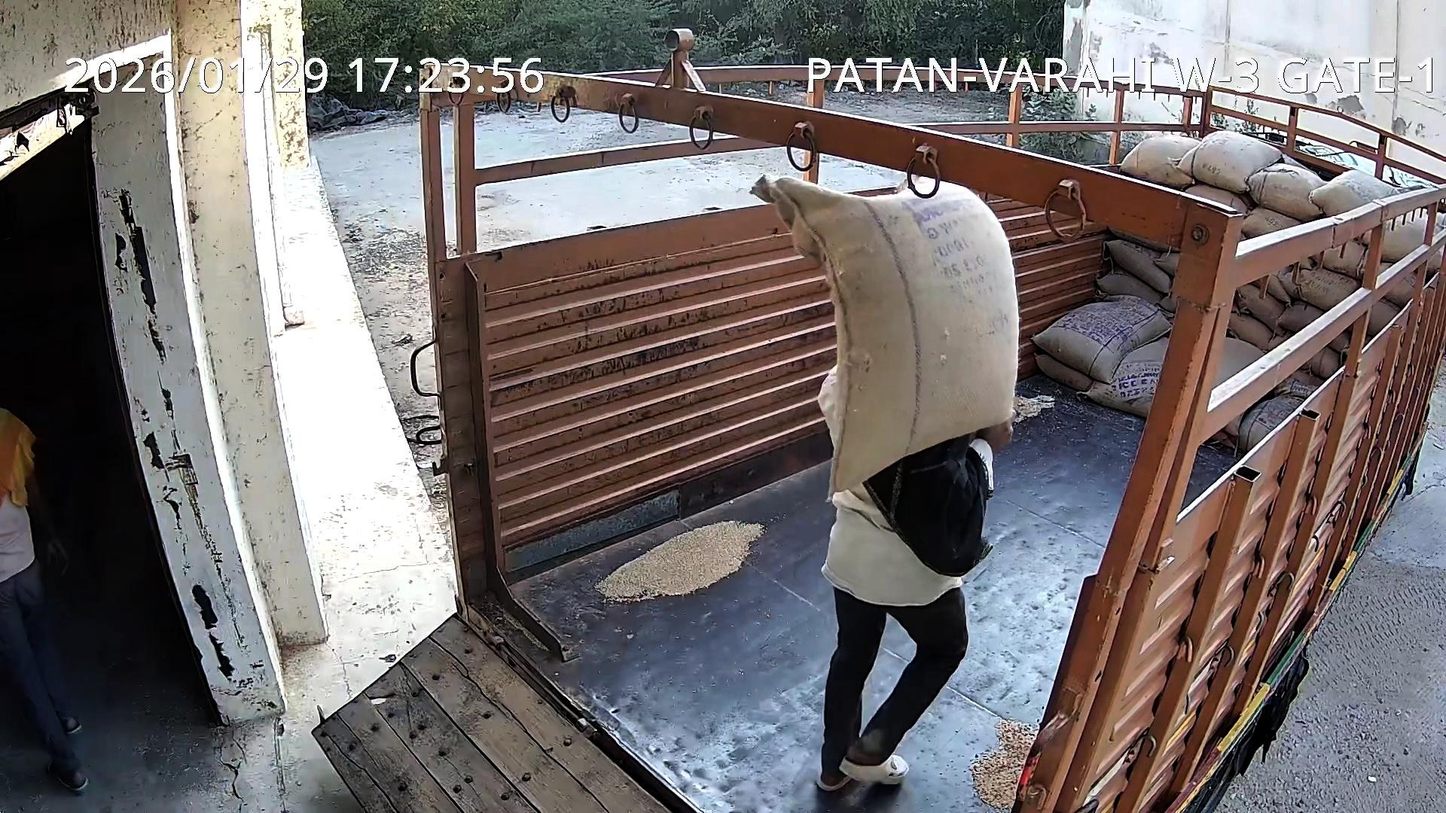Sack: (753, 175, 1020, 491)
